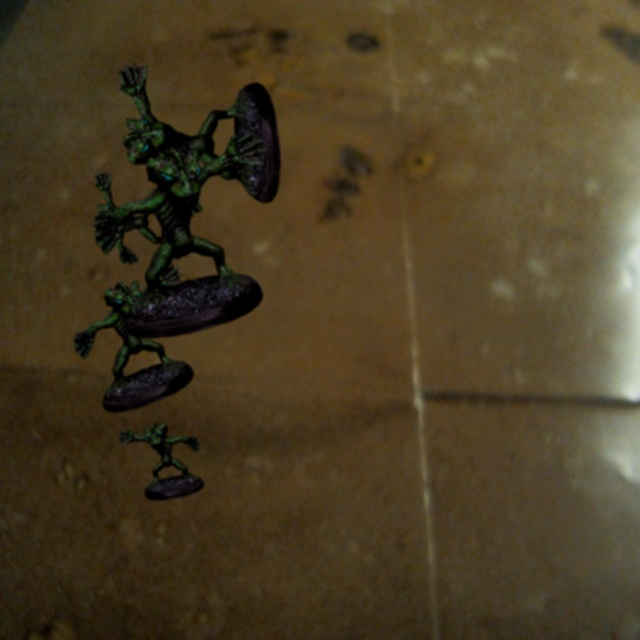pieza_juego: (93, 132, 265, 338), (118, 62, 280, 216), (73, 263, 193, 412), (94, 171, 186, 263), (117, 423, 203, 500)
